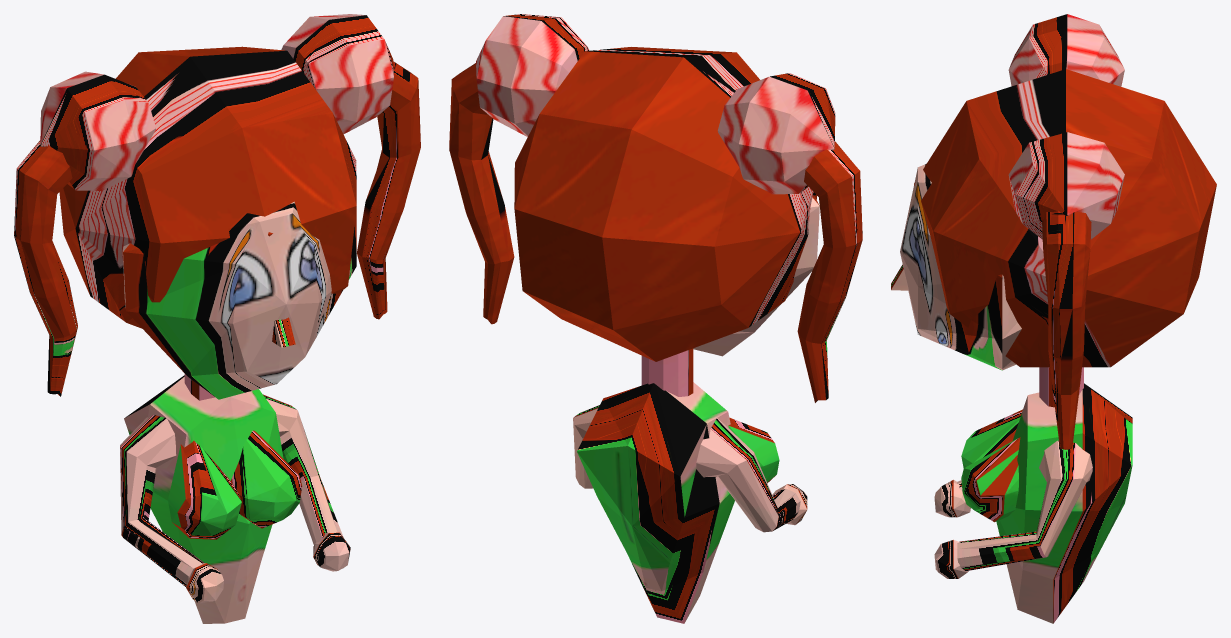
Rendered from Woman.glb.
The picture shows the model from 3 angles, left to right: view 1: azimuth 30°, elevation 25°; view 2: azimuth 150°, elevation 25°; view 3: azimuth 270°, elevation 25°; orthographic projection. The views are drawn at different scales.
Visible parts, largest first — view 1: Woman; view 2: Woman; view 3: Woman.
Boxes of the visible parts, <box> form: Woman: <box>14,14,420,623</box>; Woman: <box>449,14,862,623</box>; Woman: <box>891,14,1216,623</box>.
Size of the model in its own units: 131 by 178 by 96.83.
1 material, 1 textured.
